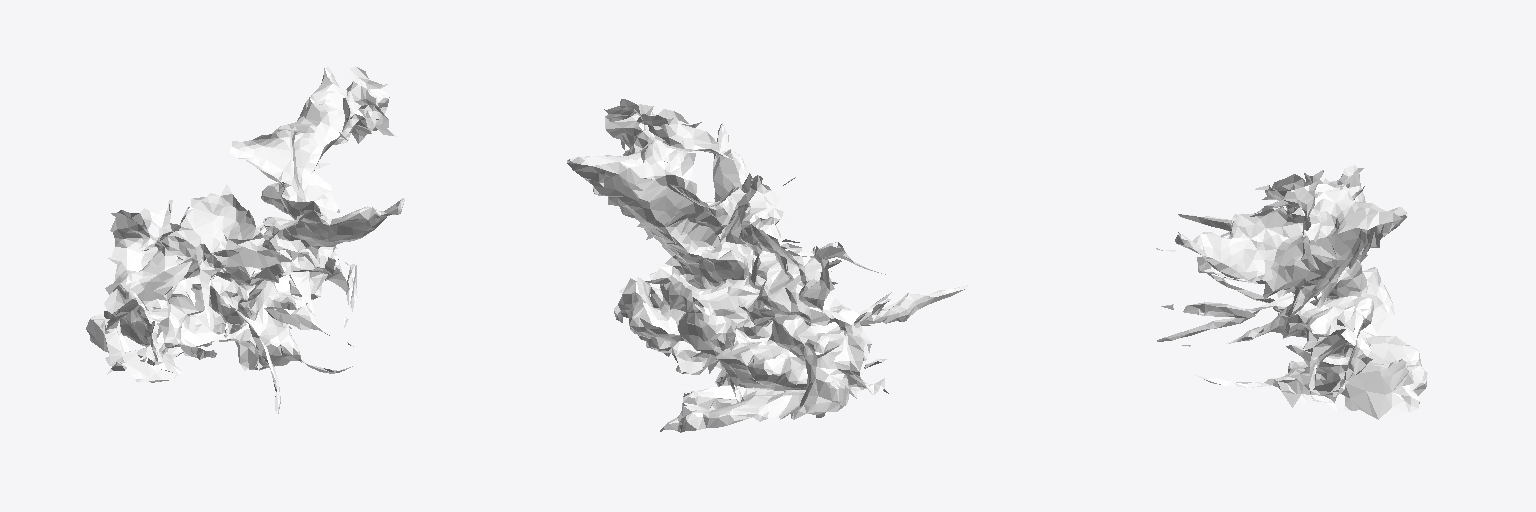
The model's file is Pasto-cut3_Low.obj.
3 renders of one model, left to right at view 1: azimuth 30°, elevation 25°; view 2: azimuth 150°, elevation 25°; view 3: azimuth 270°, elevation 25°, orthographic.
Parts seen in each view (by area): view 1: Group_Global; view 2: Group_Global; view 3: Group_Global.
Part boxes in pixels (x1,y1,x2,y2): Group_Global: (86, 66, 404, 415); Group_Global: (567, 99, 967, 432); Group_Global: (1155, 165, 1427, 419).
Bounding box in the file's own units: 1000 × 922 × 857.